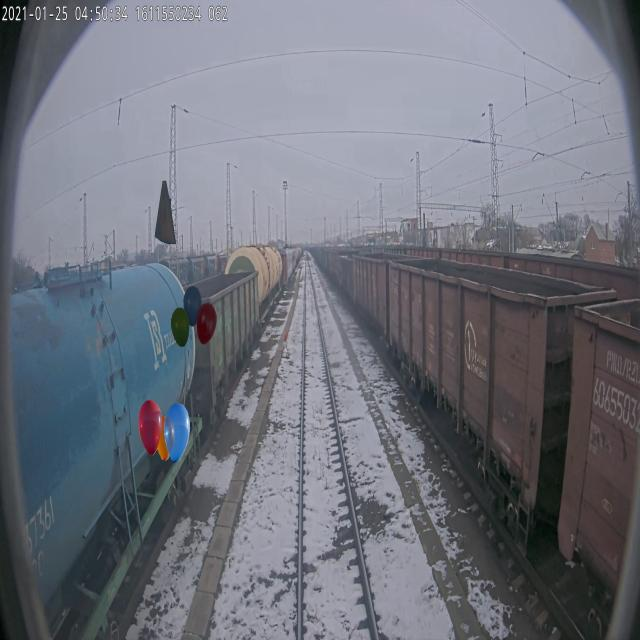balloon: (138, 399, 190, 463), (171, 284, 217, 348)
floating object: (155, 180, 176, 244)
